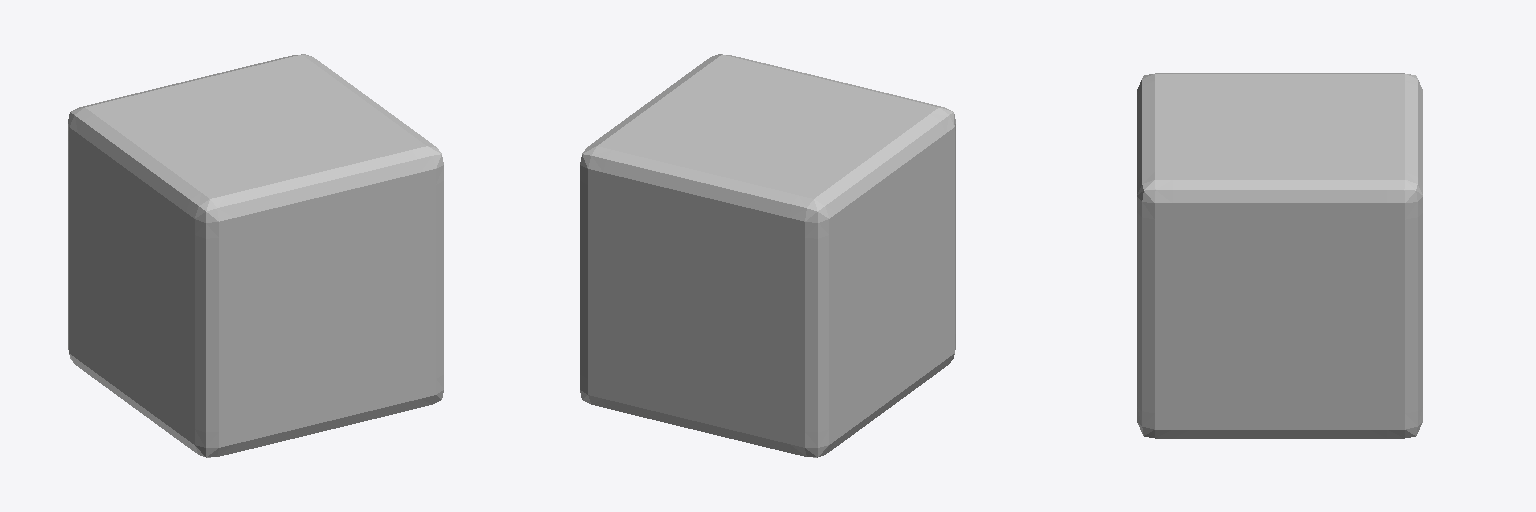
Rendered from Block.obj.
3 views of the same model, side by side, from view 1: azimuth 30°, elevation 25°; view 2: azimuth 150°, elevation 25°; view 3: azimuth 270°, elevation 25° (orthographic).
Parts seen in each view (by area): view 1: Cube; view 2: Cube; view 3: Cube.
Part boxes in pixels (left/top/right/bottom): Cube: left=68, top=54, right=443, bottom=457; Cube: left=580, top=54, right=955, bottom=457; Cube: left=1137, top=73, right=1422, bottom=438.
Size of the model in its own units: 4 by 3.99 by 4.